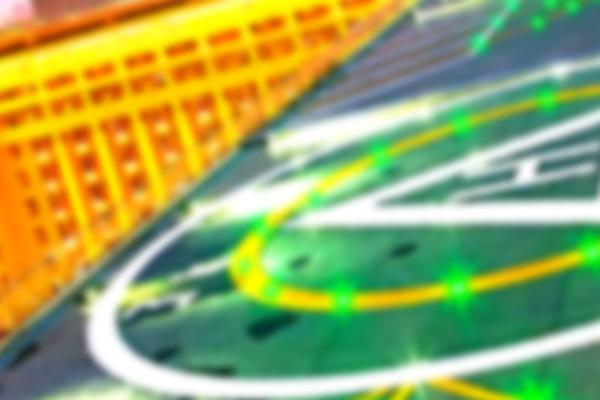Apron: (229, 85, 600, 315)
